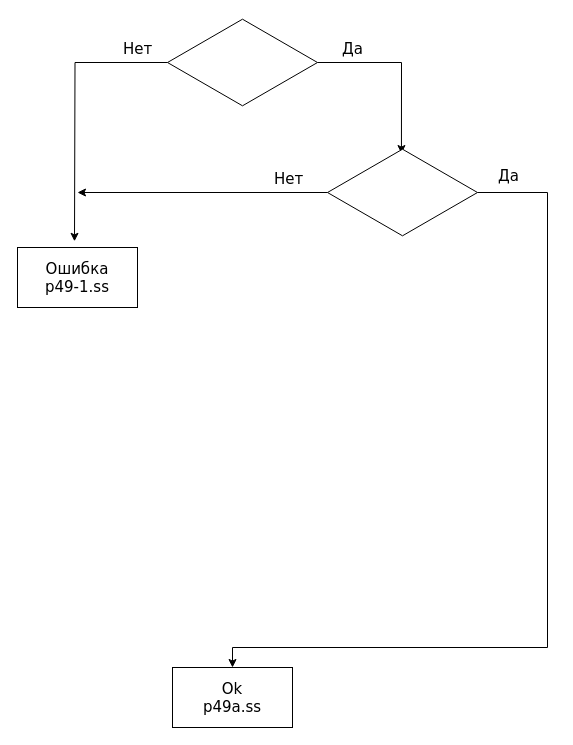
Some shapes in this 573 by 745 pixel diagram are drawn without their labels. Here are the shapes that lost their labels. From the top down, the box of each, then its label:
(166, 16, 318, 108): Область параметров?
(326, 146, 478, 238): Имя параметра?
